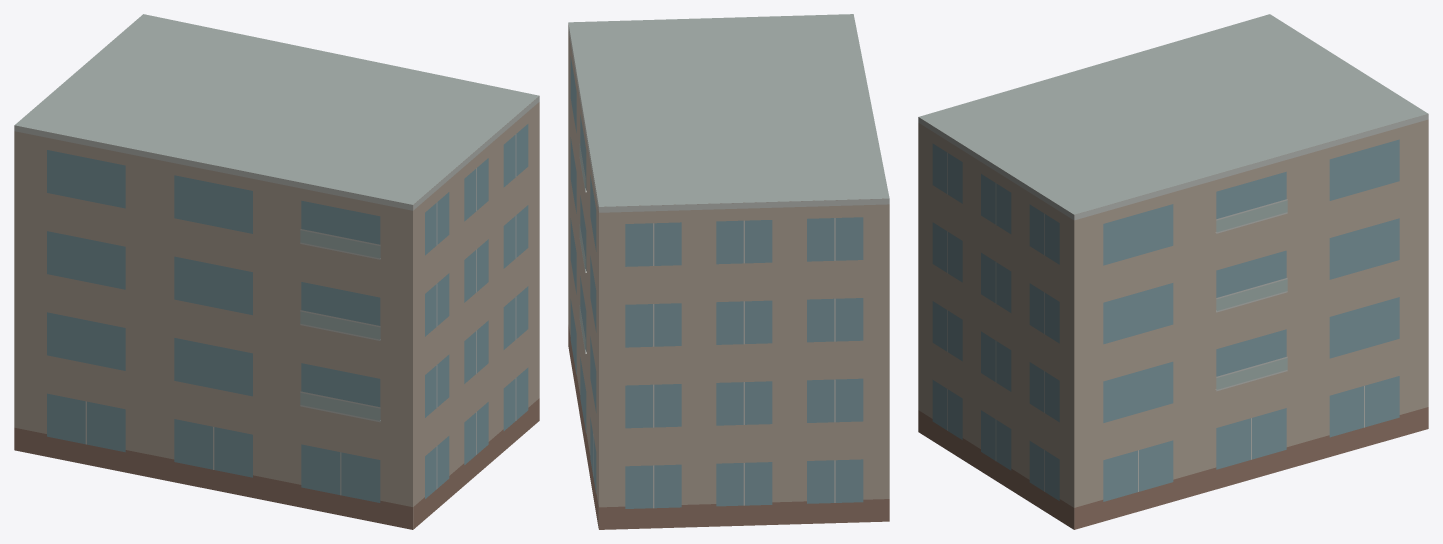
The model's file is survey-upis-32942439.glb.
3 renders of one model, left to right at view 1: azimuth 30°, elevation 25°; view 2: azimuth 150°, elevation 25°; view 3: azimuth 270°, elevation 25°, orthographic. The views are drawn at different scales.
Visible parts, largest first — view 1: survey-upis-32942439.tmp; view 2: survey-upis-32942439.tmp; view 3: survey-upis-32942439.tmp.
Part boxes in pixels (<box>): survey-upis-32942439.tmp: <box>14,14,539,529</box>; survey-upis-32942439.tmp: <box>568,14,889,529</box>; survey-upis-32942439.tmp: <box>918,14,1428,529</box>.
Bounding box in the file's own units: 18.41 × 13.47 × 19.77.
